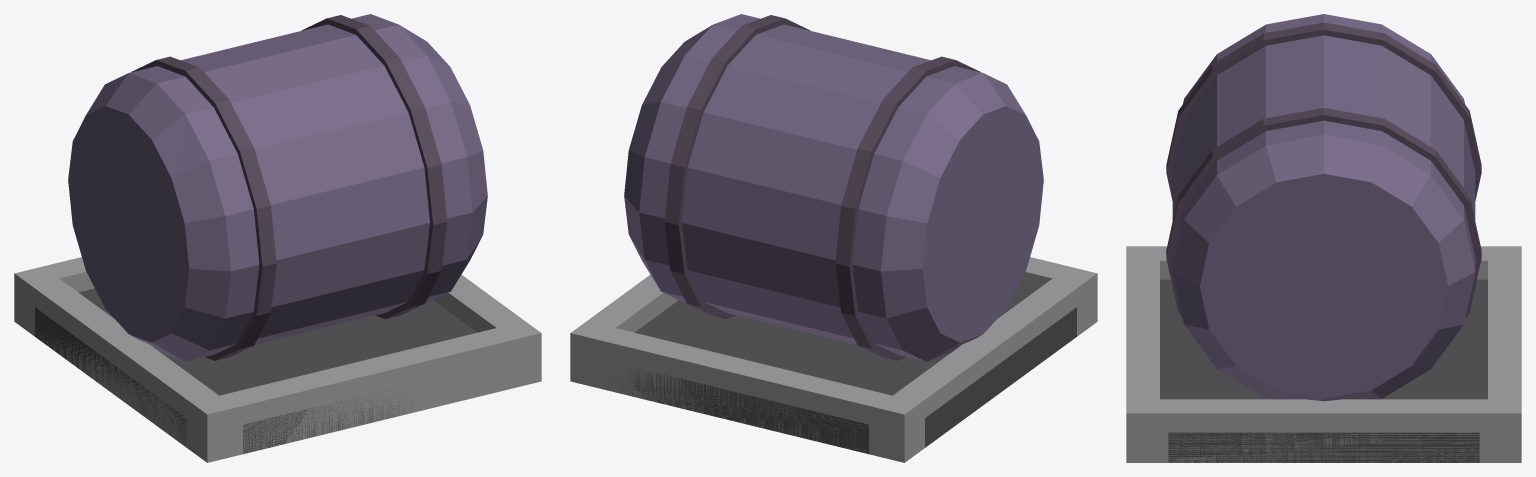
The model's file is vge_aux_astrofuel_tank.obj.
The picture shows the model from 3 angles, left to right: view 1: azimuth 30°, elevation 25°; view 2: azimuth 150°, elevation 25°; view 3: azimuth 270°, elevation 25°; orthographic projection. The views are drawn at different scales.
Parts seen in each view (by area): view 1: vge_aux_astrofuel_tank_5, vge_aux_astrofuel_tank_1, vge_aux_astrofuel_tank_0, vge_aux_astrofuel_tank_3, vge_aux_astrofuel_tank_7, vge_aux_astrofuel_tank_6, vge_aux_astrofuel_tank_4, vge_aux_astrofuel_tank_2; view 2: vge_aux_astrofuel_tank_5, vge_aux_astrofuel_tank_0, vge_aux_astrofuel_tank_2, vge_aux_astrofuel_tank_3, vge_aux_astrofuel_tank_7, vge_aux_astrofuel_tank_6, vge_aux_astrofuel_tank_4, vge_aux_astrofuel_tank_1; view 3: vge_aux_astrofuel_tank_5, vge_aux_astrofuel_tank_0, vge_aux_astrofuel_tank_4, vge_aux_astrofuel_tank_1, vge_aux_astrofuel_tank_2, vge_aux_astrofuel_tank_7, vge_aux_astrofuel_tank_6, vge_aux_astrofuel_tank_3.
Boxes of the visible parts, x1,y1,x2,y2 form: vge_aux_astrofuel_tank_5: (68,14,487,361); vge_aux_astrofuel_tank_1: (191,321,541,462); vge_aux_astrofuel_tank_0: (35,288,476,453); vge_aux_astrofuel_tank_3: (31,278,218,450); vge_aux_astrofuel_tank_7: (302,15,447,319); vge_aux_astrofuel_tank_6: (131,56,276,360); vge_aux_astrofuel_tank_4: (433,274,524,332); vge_aux_astrofuel_tank_2: (14,257,94,333); vge_aux_astrofuel_tank_5: (624,14,1043,361); vge_aux_astrofuel_tank_0: (612,288,1076,454); vge_aux_astrofuel_tank_2: (570,321,920,462); vge_aux_astrofuel_tank_3: (893,278,1080,450); vge_aux_astrofuel_tank_7: (664,15,809,319); vge_aux_astrofuel_tank_6: (835,56,980,360); vge_aux_astrofuel_tank_4: (587,274,678,332); vge_aux_astrofuel_tank_1: (1017,257,1097,333); vge_aux_astrofuel_tank_5: (1172,14,1475,401); vge_aux_astrofuel_tank_0: (1160,279,1487,462); vge_aux_astrofuel_tank_4: (1160,399,1487,462); vge_aux_astrofuel_tank_1: (1126,246,1159,462); vge_aux_astrofuel_tank_2: (1488,246,1521,462); vge_aux_astrofuel_tank_7: (1166,108,1481,317); vge_aux_astrofuel_tank_6: (1166,22,1481,200); vge_aux_astrofuel_tank_3: (1160,246,1487,279).
Size of the model in its own units: 0.94 by 0.815 by 0.94.
